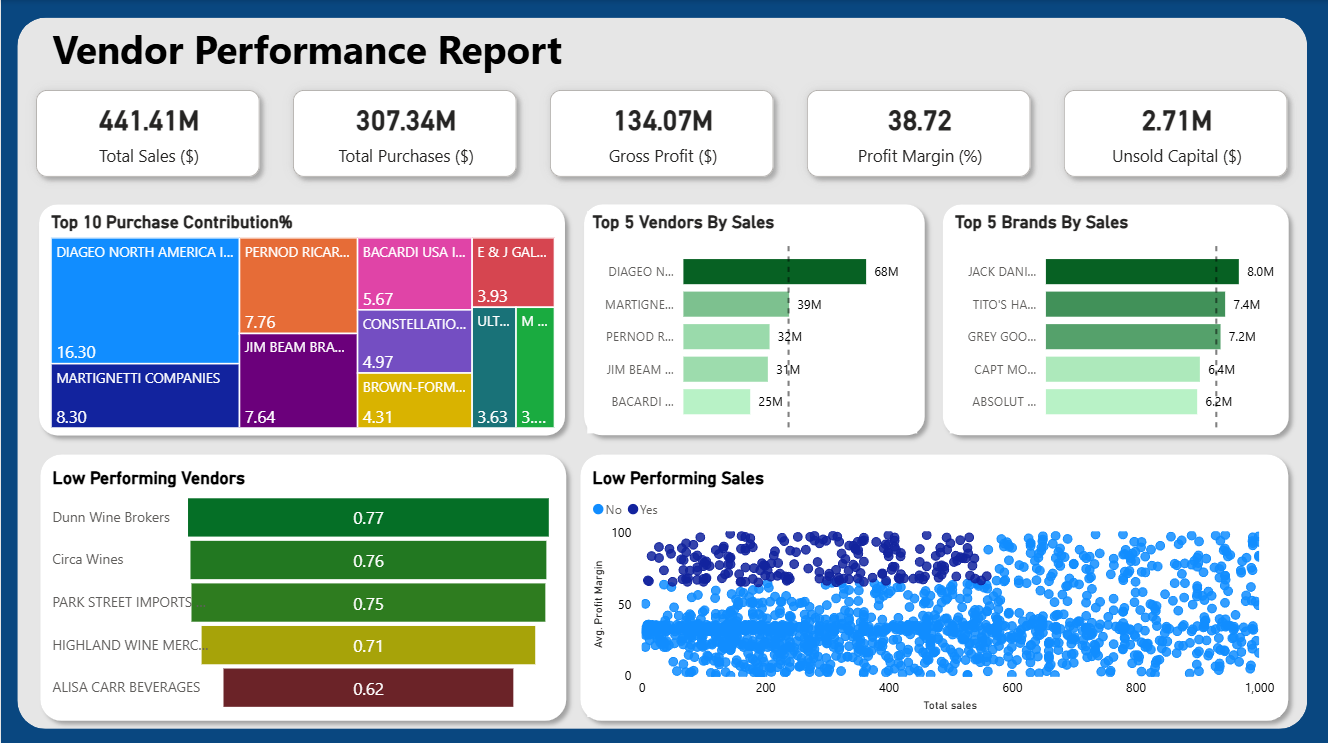

What the dashboard file says about the page in this screenshot:
{"tool":"powerbi","page":{"name":"Page 1","canvas":[1280,720],"ordinal":0},"visuals":[{"type":"shape","box":[15.9,17.3,1245.1,686.8],"z":0},{"type":"textbox","box":[44.7,17.3,551.1,63.5],"z":1000},{"type":"cardVisual","fields":{"Data":["Sum(vendor_sales_summary.Totalsalesdollars)","Sum(vendor_sales_summary.Totalpurchasedollars)","Sum(vendor_sales_summary.Grossprofit)","Avg(vendor_sales_summary.ProfitMargin)","Sum(vendor_sales_summary.Unsoldinventoryvalue)"]},"box":[17.1,70,1243.9,118.2],"z":2000},{"type":"shape","box":[28,188.1,525.6,241],"z":3000},{"type":"treemap","title":"Top 10 Purchase Contribution% ","fields":{"Group":["Purchasecontribution.VendorName"],"Values":["Sum(Purchasecontribution.Purchasecontribution%)"]},"box":[43.3,204,495.9,214.2],"z":4000},{"type":"shape","box":[553.3,188.7,346.8,241],"z":5000},{"type":"shape","box":[900.1,188.7,351.9,241],"z":6000},{"type":"clusteredBarChart","title":"Top 5 Vendors By Sales","fields":{"Category":["vendor_sales_summary.VendorName"],"Y":["Sum(vendor_sales_summary.Totalsalesdollars)"]},"box":[566,203.7,318.8,214.6],"z":7000},{"type":"clusteredBarChart","title":"Top 5 Brands By Sales","fields":{"Y":["Sum(vendor_sales_summary.Totalsalesdollars)"],"Category":["vendor_sales_summary.Description"]},"box":[915.9,203.7,318.8,214.6],"z":8000},{"type":"shape","box":[29.5,429.2,525.6,275.2],"z":9000},{"type":"shape","box":[550.4,429.2,701.3,275.2],"z":10000},{"type":"funnel","title":"Low Performing Vendors","fields":{"Y":["Sum(lowturnovervendor.Avgstockturnover)"],"Category":["lowturnovervendor.VendorName"]},"box":[44.9,451.3,494.3,240.3],"z":11000},{"type":"scatterChart","title":"Low Performing Sales","fields":{"Category":["Brandperformance.Description"],"X":["Sum(Brandperformance.totalsales)"],"Y":["Sum(Brandperformance.AvgProfitMargin)"],"Series":["Brandperformance.targetbrand"]},"box":[566,450.9,668.6,241],"z":11001}]}

Visuals, with their boxes in screenshot pixels (x1, y1, x2, y2), scaled from the page's 1280x720 canvas onto the 1328x743 screenshot:
shape: (16,18,1308,727)
textbox: (46,18,618,83)
cardVisual - Sum(vendor_sales_summary.Totalsalesdollars) x Sum(vendor_sales_summary.Totalpurchasedollars): (18,72,1308,194)
shape: (29,194,574,443)
"Top 10 Purchase Contribution% " treemap: (45,211,559,432)
shape: (574,195,934,443)
shape: (934,195,1299,443)
"Top 5 Vendors By Sales" clusteredBarChart: (587,210,918,432)
"Top 5 Brands By Sales" clusteredBarChart: (950,210,1281,432)
shape: (31,443,576,727)
shape: (571,443,1299,727)
"Low Performing Vendors" funnel: (47,466,559,714)
"Low Performing Sales" scatterChart: (587,465,1281,714)
